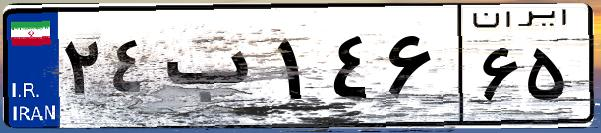1: (270, 28, 330, 110)
2: (57, 26, 110, 100)
4: (330, 28, 385, 110), (110, 28, 158, 98)
5: (525, 38, 570, 115)
6: (385, 28, 445, 110), (475, 38, 525, 113)
ب: (158, 20, 270, 120)
